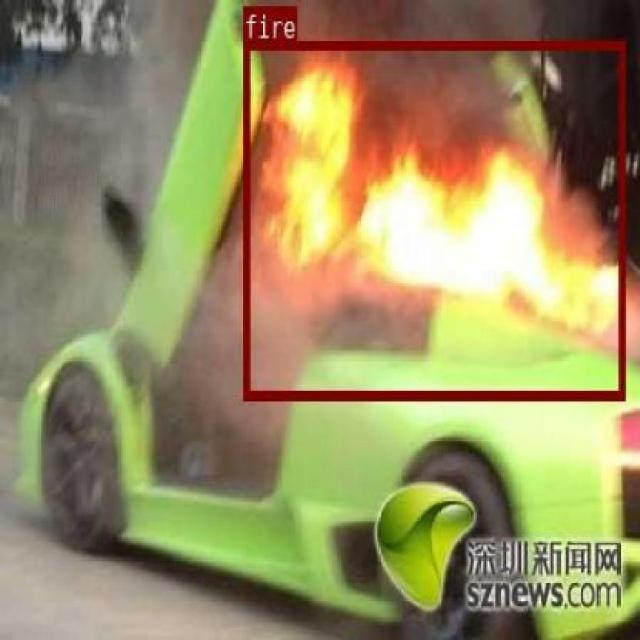Fire: (242, 39, 624, 398)
